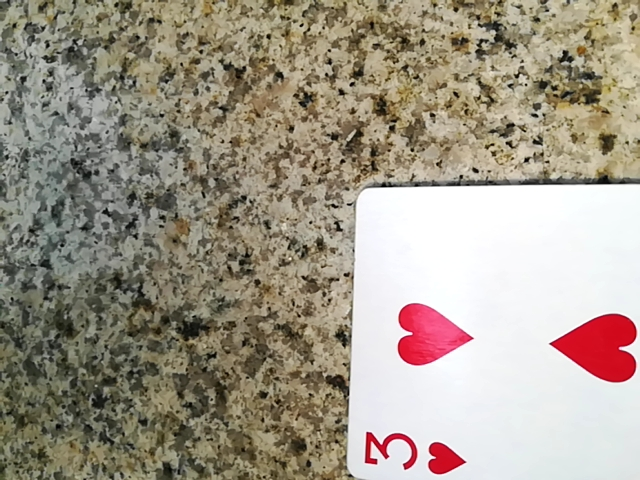hx 3: (345, 174, 640, 478)
